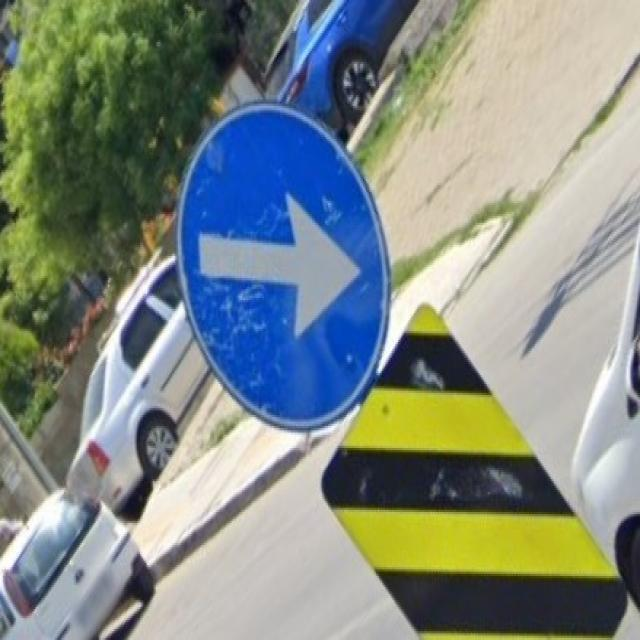Turn Right: (160, 110, 396, 415)
